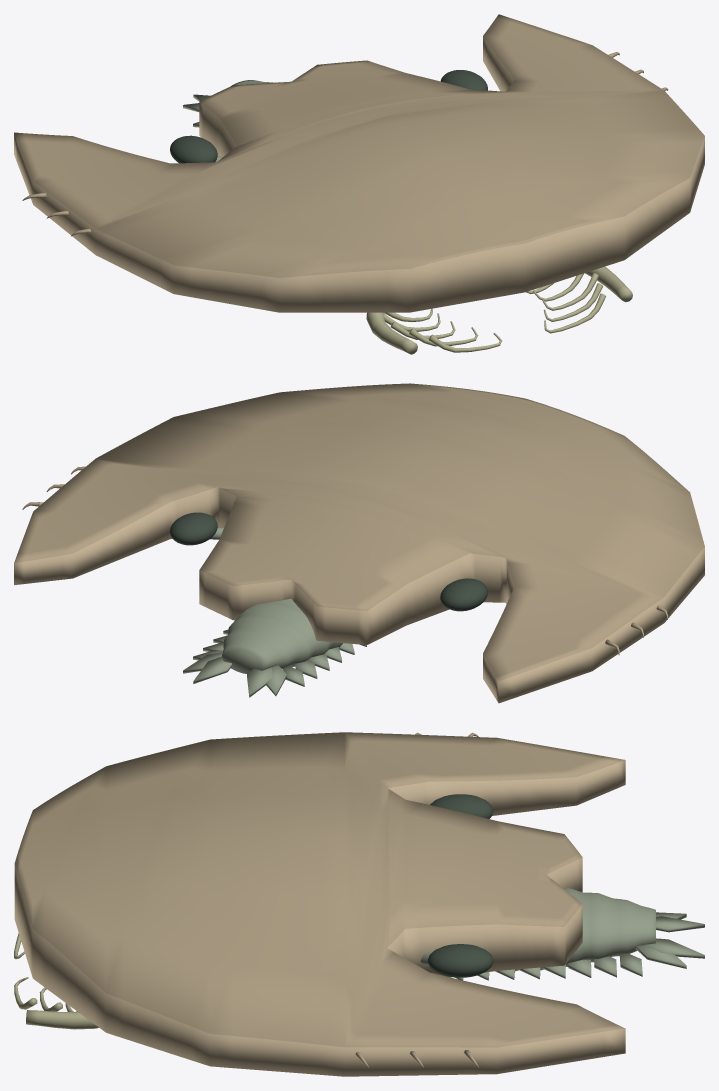
Rendered from cambroraster.glb.
The picture shows the model from 3 angles, top to bottom: view 1: azimuth 30°, elevation 25°; view 2: azimuth 150°, elevation 25°; view 3: azimuth 270°, elevation 25°; orthographic projection. The views are drawn at different scales.
Visible parts, largest first — view 1: domed-horseshoe-shield-with-deep-ocular-notches, paired-underhead-rake-appendages-simplified-inner-spines, upward-elliptical-eyes-in-rear-notches; view 2: domed-horseshoe-shield-with-deep-ocular-notches, short-stout-soft-body-beneath-large-shield, short-lateral-swimming-flaps-and-four-tail-blades, upward-elliptical-eyes-in-rear-notches; view 3: domed-horseshoe-shield-with-deep-ocular-notches, short-stout-soft-body-beneath-large-shield, short-lateral-swimming-flaps-and-four-tail-blades, upward-elliptical-eyes-in-rear-notches, paired-underhead-rake-appendages-simplified-inner-spines.
Boxes of the visible parts, box(x1,y1,x2,y2) form: domed-horseshoe-shield-with-deep-ocular-notches: box(14, 14, 704, 312); paired-underhead-rake-appendages-simplified-inner-spines: box(22, 52, 668, 354); upward-elliptical-eyes-in-rear-notches: box(170, 70, 487, 163); domed-horseshoe-shield-with-deep-ocular-notches: box(14, 383, 704, 703); short-stout-soft-body-beneath-large-shield: box(222, 598, 342, 673); short-lateral-swimming-flaps-and-four-tail-blades: box(183, 629, 366, 697); upward-elliptical-eyes-in-rear-notches: box(170, 512, 487, 611); domed-horseshoe-shield-with-deep-ocular-notches: box(14, 732, 625, 1076); short-stout-soft-body-beneath-large-shield: box(515, 888, 655, 971); short-lateral-swimming-flaps-and-four-tail-blades: box(455, 912, 704, 980); upward-elliptical-eyes-in-rear-notches: box(420, 794, 493, 977); paired-underhead-rake-appendages-simplified-inner-spines: box(14, 732, 478, 1067).
Size of the model in its own units: 0.1281 by 0.0249 by 0.1131.
